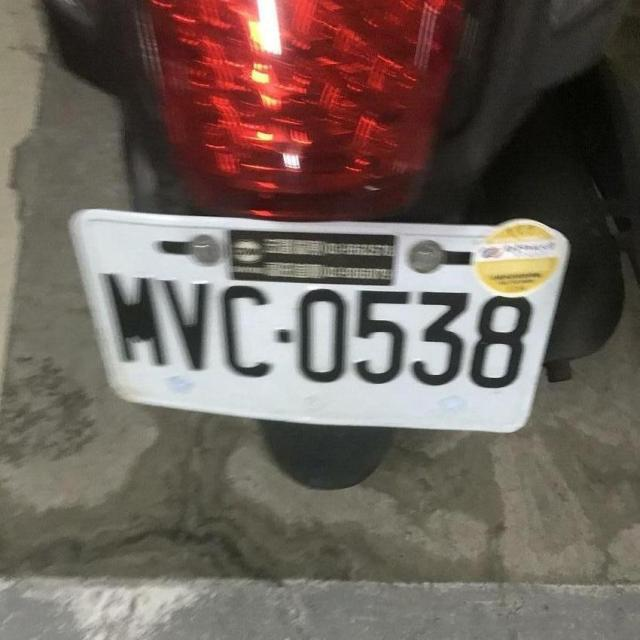W: (76, 194, 559, 450)
